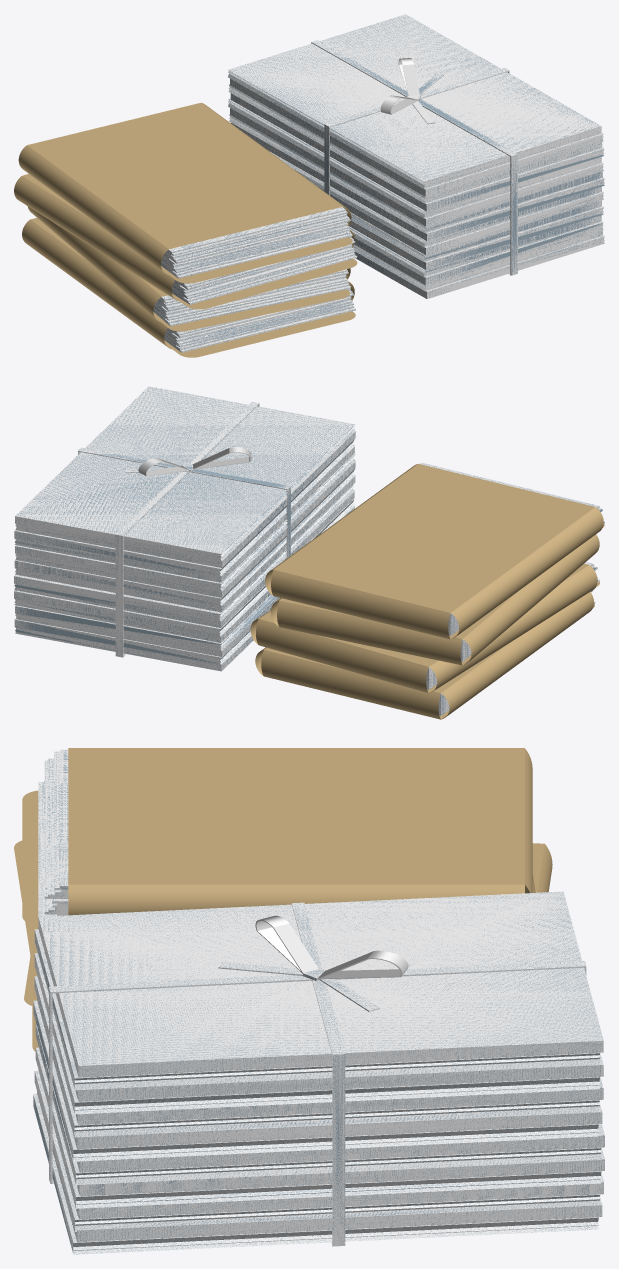
3 views of the same model, one above another, from view 1: azimuth 30°, elevation 25°; view 2: azimuth 150°, elevation 25°; view 3: azimuth 270°, elevation 25° (orthographic). The views are drawn at different scales.
Parts seen in each view (by area): view 1: Mesh25, Group12, Group11, Group6, Group3, Group9, Group2, Group5, Group8, Mesh29, Mesh26, Mesh24 (+15 smaller); view 2: Group12, Mesh25, Group3, Group6, Group9, Mesh21, Mesh27, Mesh28, Mesh22, Mesh18, Group21, Mesh23 (+12 smaller); view 3: Mesh25, Group12, Mesh24, Mesh23, Mesh17, Mesh29, Mesh19, Mesh26, Mesh20, Mesh30, Mesh16, Mesh22 (+11 smaller).
Boxes of the visible parts, x1=… form: Mesh25: x1=228, y1=14, x2=601, y2=188; Group12: x1=18, y1=102, x2=352, y2=283; Group11: x1=161, y1=207, x2=352, y2=278; Group6: x1=14, y1=174, x2=357, y2=309; Group3: x1=22, y1=218, x2=355, y2=357; Group9: x1=27, y1=206, x2=350, y2=331; Group2: x1=164, y1=283, x2=355, y2=352; Group5: x1=171, y1=233, x2=357, y2=304; Group8: x1=153, y1=269, x2=350, y2=326; Mesh29: x1=230, y1=93, x2=604, y2=211; Mesh26: x1=230, y1=108, x2=603, y2=226; Mesh24: x1=230, y1=78, x2=603, y2=196; Group12: x1=265, y1=464, x2=604, y2=639; Mesh25: x1=15, y1=386, x2=355, y2=561; Group3: x1=255, y1=592, x2=594, y2=719; Group6: x1=270, y1=534, x2=599, y2=665; Group9: x1=250, y1=563, x2=599, y2=693; Mesh21: x1=14, y1=484, x2=354, y2=621; Mesh27: x1=15, y1=454, x2=355, y2=591; Mesh28: x1=14, y1=439, x2=354, y2=576; Mesh22: x1=14, y1=469, x2=354, y2=605; Mesh18: x1=14, y1=499, x2=354, y2=636; Group21: x1=115, y1=402, x2=259, y2=657; Mesh23: x1=15, y1=475, x2=355, y2=612; Mesh25: x1=38, y1=891, x2=603, y2=1077; Group12: x1=22, y1=748, x2=532, y2=925; Mesh24: x1=34, y1=929, x2=599, y2=1090; Mesh23: x1=33, y1=1000, x2=598, y2=1161; Mesh17: x1=33, y1=1093, x2=598, y2=1254; Mesh29: x1=34, y1=953, x2=599, y2=1114; Mesh19: x1=35, y1=1047, x2=601, y2=1208; Mesh26: x1=34, y1=976, x2=599, y2=1137; Mesh20: x1=35, y1=1024, x2=601, y2=1185; Mesh30: x1=34, y1=1070, x2=600, y2=1231; Mesh16: x1=37, y1=1092, x2=602, y2=1242; Mesh22: x1=37, y1=999, x2=602, y2=1149.
Bounding box in the file's own units: 0.8045 × 0.2354 × 0.5649.
